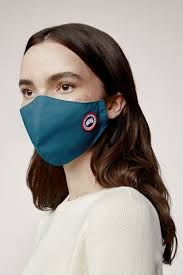with-mask: (17, 30, 133, 171)
